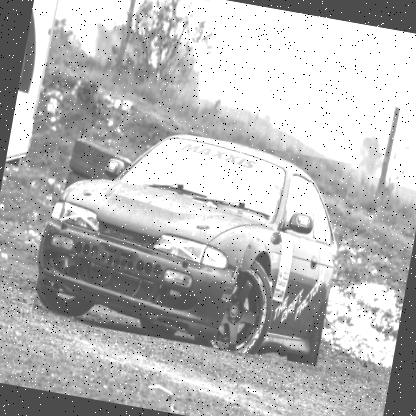Car: (31, 113, 352, 366)
